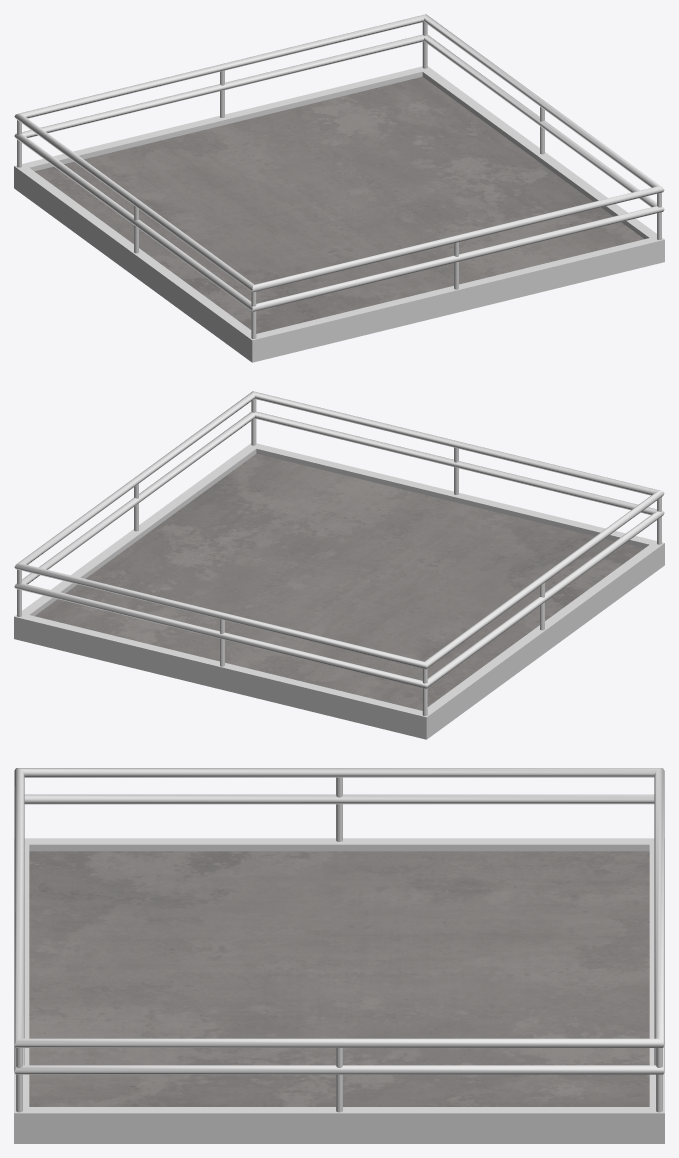
Rendered from platform.fbx.
The picture shows the model from 3 angles, top to bottom: view 1: azimuth 30°, elevation 25°; view 2: azimuth 150°, elevation 25°; view 3: azimuth 270°, elevation 25°; orthographic projection. The views are drawn at different scales.
Visible parts, largest first — view 1: floor, platform_frame, railing_02; view 2: floor, platform_frame, railing_02; view 3: floor, platform_frame, railing_02.
Boxes of the visible parts, x1=… form: floor: x1=34, y1=76, x2=644, y2=333; platform_frame: x1=14, y1=66, x2=664, y2=362; railing_02: x1=14, y1=14, x2=664, y2=338; floor: x1=34, y1=453, x2=644, y2=710; platform_frame: x1=14, y1=443, x2=664, y2=739; railing_02: x1=14, y1=391, x2=664, y2=715; floor: x1=29, y1=851, x2=649, y2=1106; platform_frame: x1=14, y1=838, x2=664, y2=1143; railing_02: x1=14, y1=768, x2=664, y2=1112.
Size of the model in its own units: 777 by 135 by 777.
